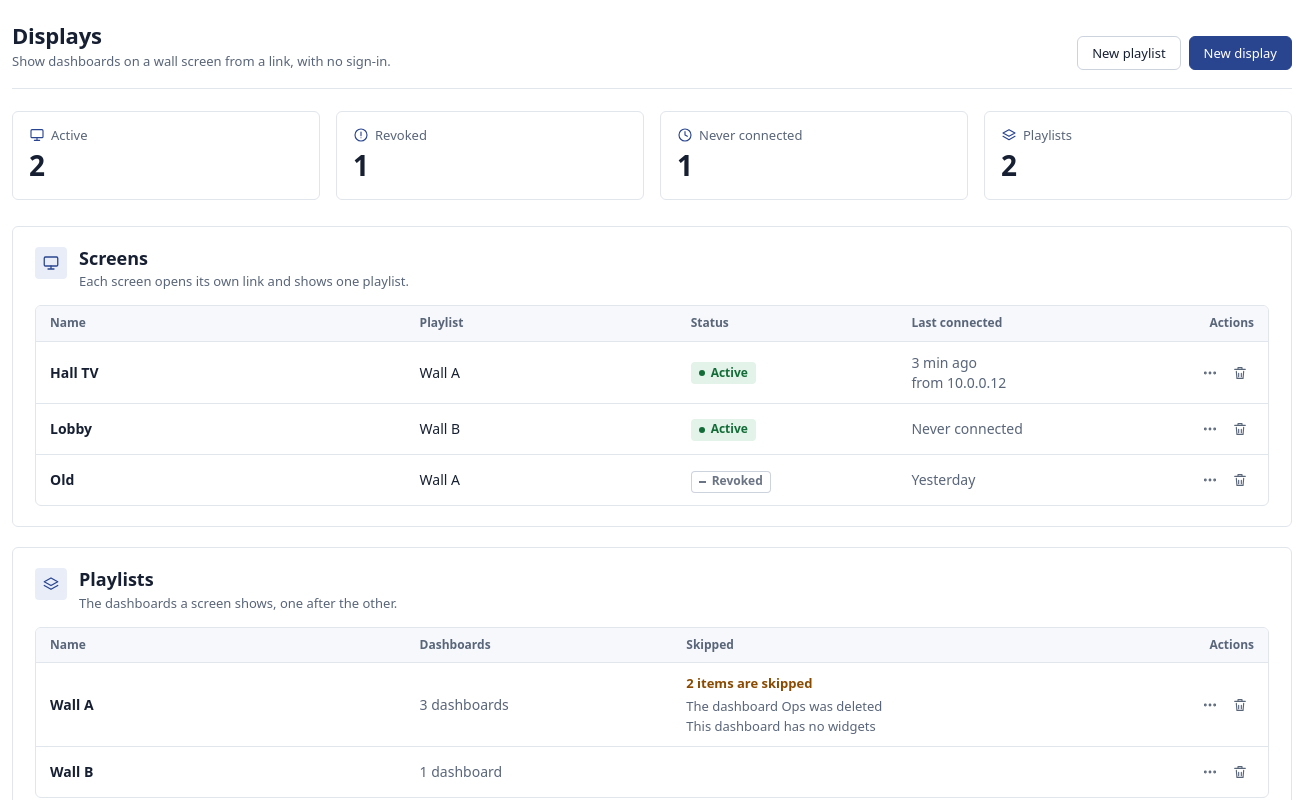
Test case: DisplaysPage: the row menus › gives a playlist Edit in its menu and the trash button named for it
Check: the cell "Hall TV" is shown, box [36,342,406,404]
Click the button named "Actions for Wall B". click: x=1210, y=772
box: [1196,758,1224,786]
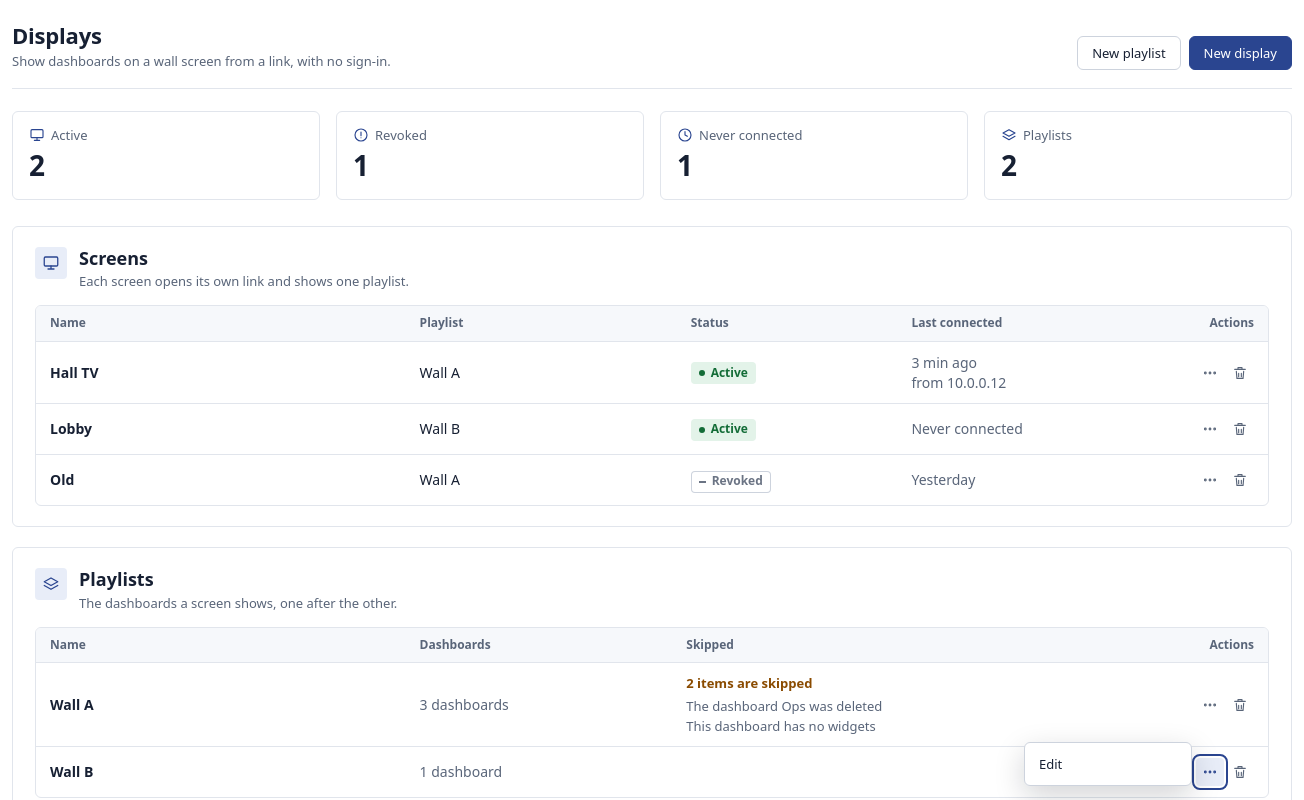
Check: the menu items read "Edit", in this order, box [1029,747,1187,781]
